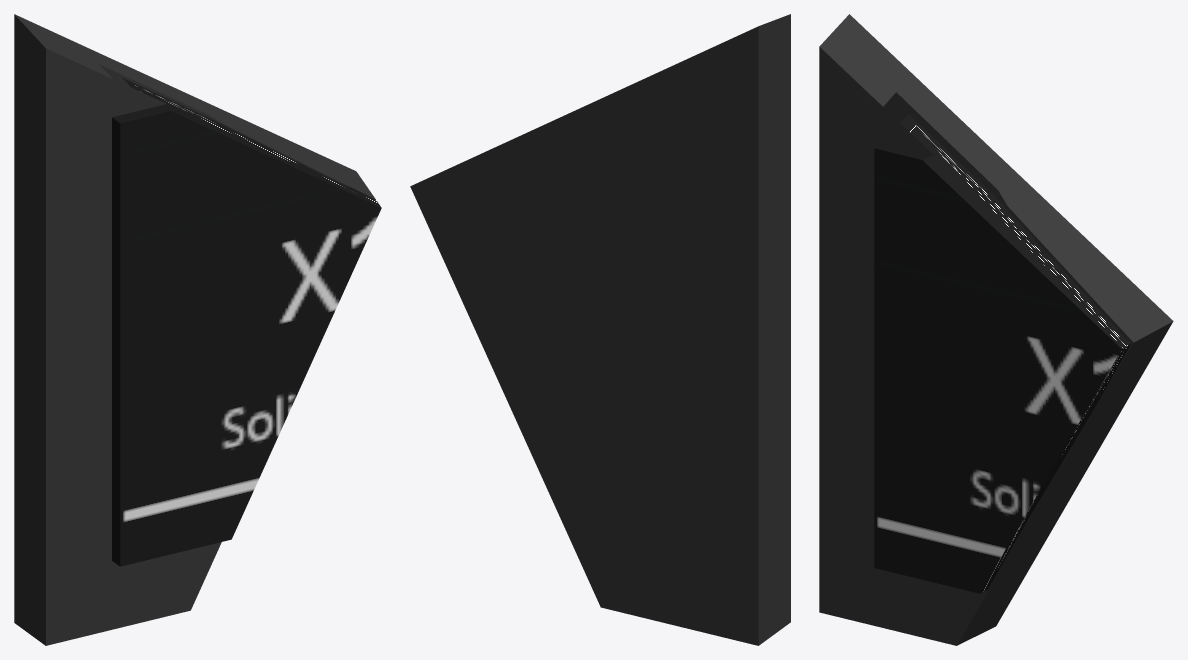
Rendered from memorychipBroken3.FBX.
3 views of the same model, side by side, from view 1: azimuth 30°, elevation 25°; view 2: azimuth 150°, elevation 25°; view 3: azimuth 330°, elevation 25° (orthographic). The views are drawn at different scales.
Parts seen in each view (by area): view 1: Box001; view 2: Box001; view 3: Box001.
Part boxes in pixels (x1=…): Box001: x1=14, y1=14, x2=381, y2=645; Box001: x1=410, y1=14, x2=790, y2=645; Box001: x1=819, y1=14, x2=1173, y2=645.
Size of the model in its own units: 15.18 by 25.8 by 3.07.
1 material, 1 textured.
